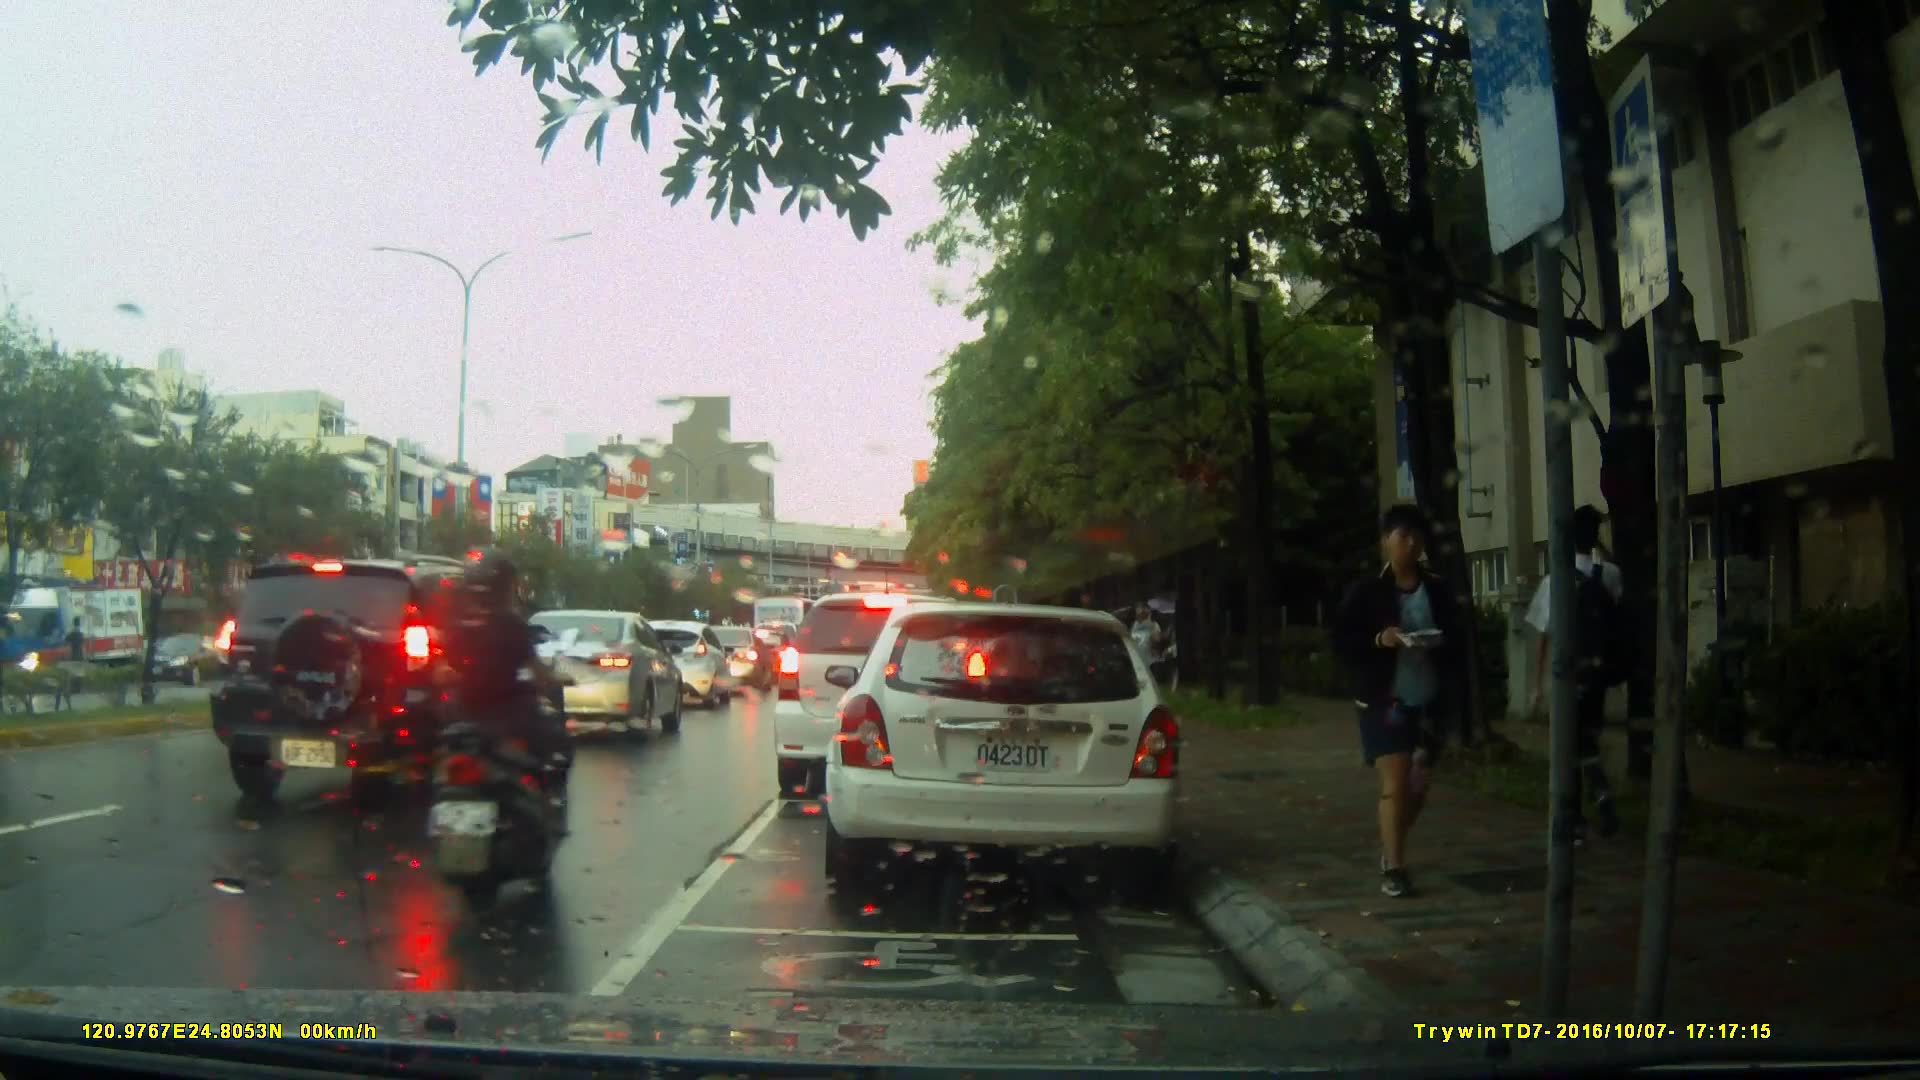pedestrian: (1329, 498, 1486, 901), (1536, 483, 1645, 847), (1121, 588, 1171, 730)
rider: (412, 541, 571, 910)
vehicle: (815, 593, 1200, 898), (203, 552, 564, 815), (770, 590, 995, 802), (493, 609, 685, 747), (1, 584, 150, 686), (611, 618, 735, 711), (693, 625, 766, 688)
